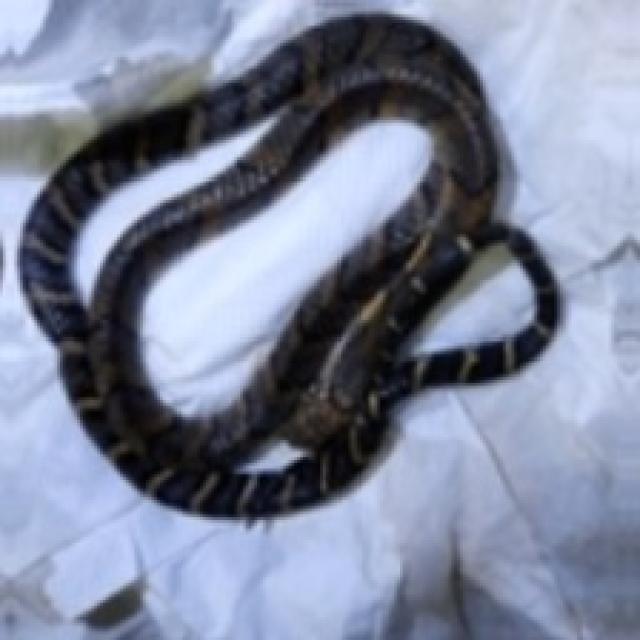king cobra: (20, 14, 557, 517)
